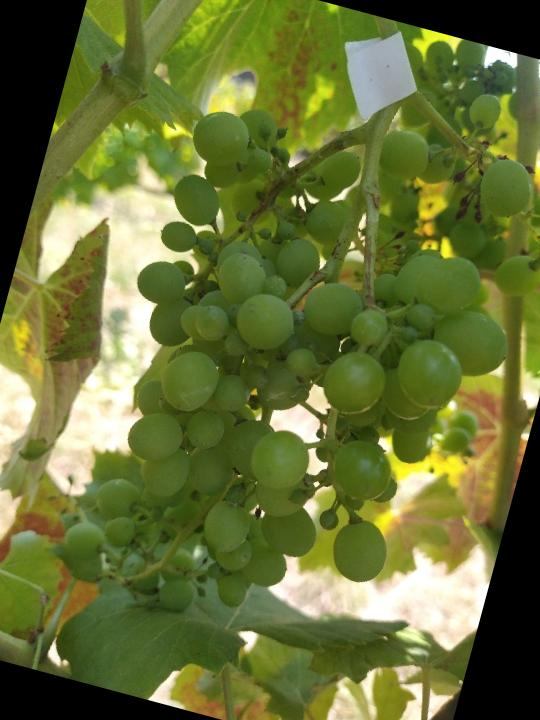grape: (51, 17, 540, 681)
